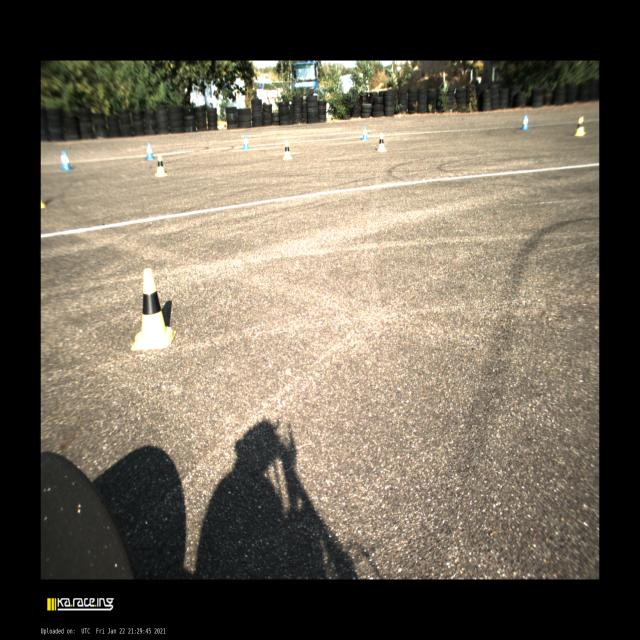blue_cone: (60, 152, 72, 170), (146, 142, 154, 160), (242, 134, 250, 150), (362, 126, 368, 140), (522, 115, 528, 129)
yellow_cone: (131, 268, 176, 351), (154, 154, 168, 176), (377, 133, 388, 152), (575, 116, 585, 136), (283, 141, 292, 159)
